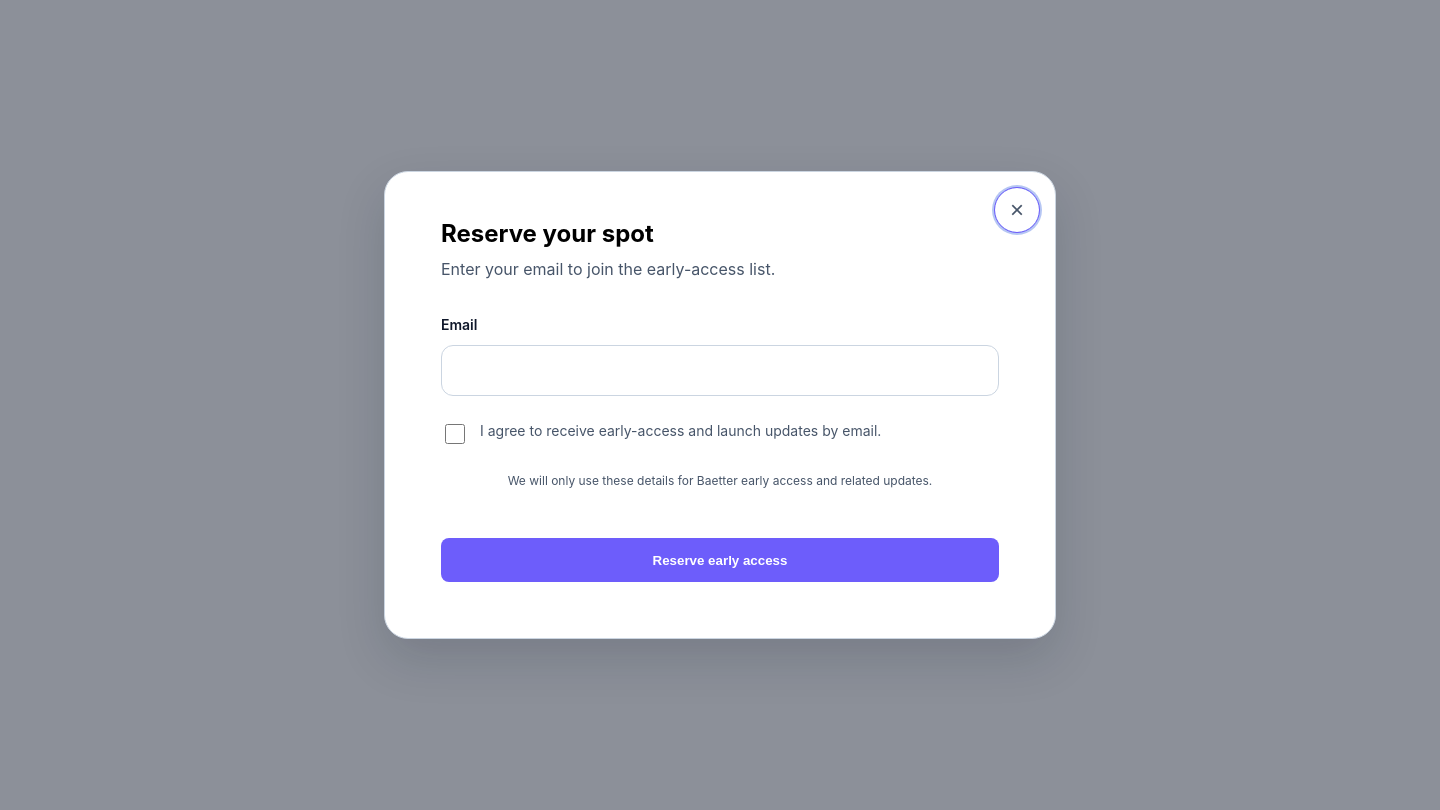
Test: EarlyAccessModal › maps rate_limited rejection and preserves values
In the field labelled "Email": (720, 370) [441,344,999,396], type "learner@example.com"
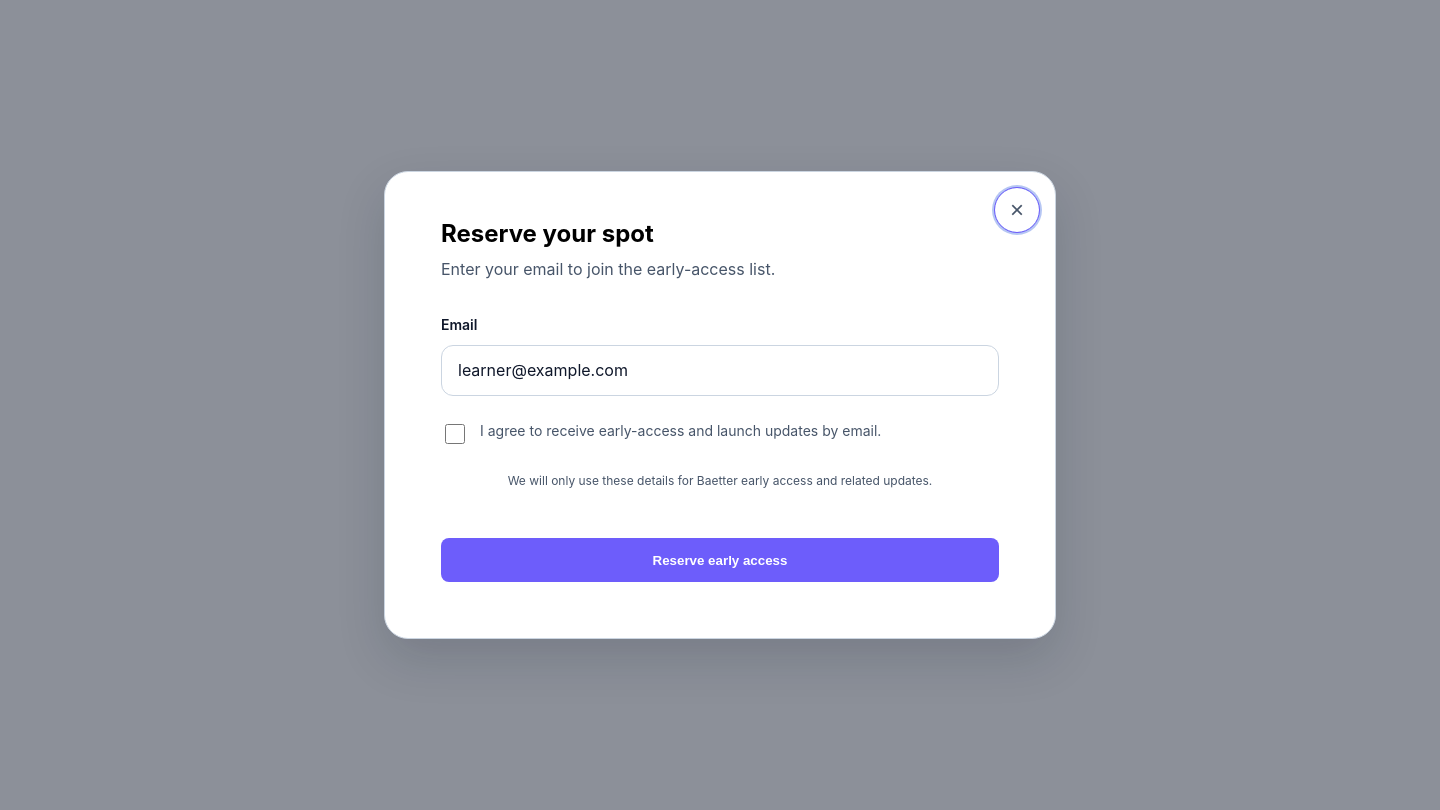
Click the checkbox labelled "I agree to receive early-access and launch updates by email.": (455, 434) [445,424,465,444]
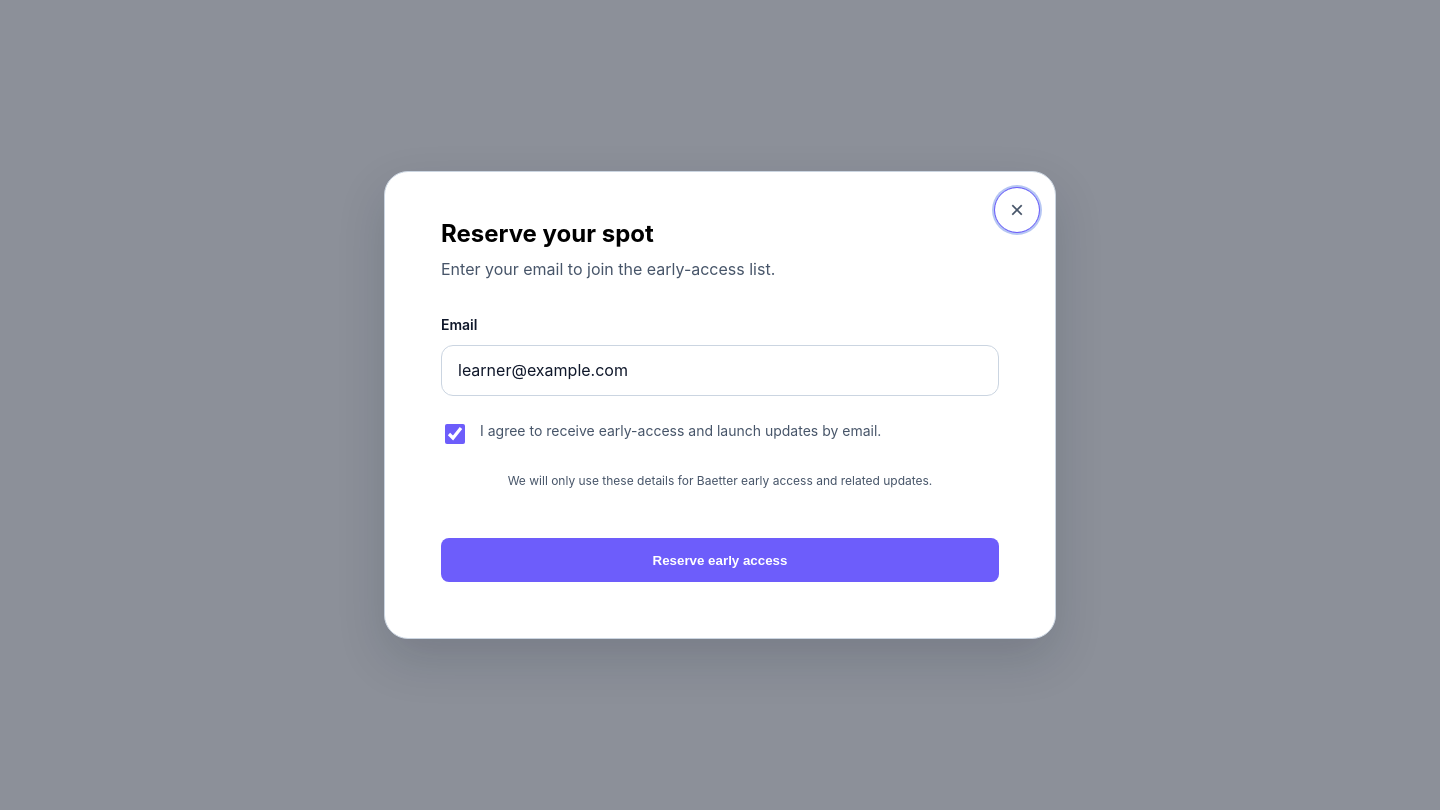
Submit the form with test id "early-access-form", box [441,314,999,582]
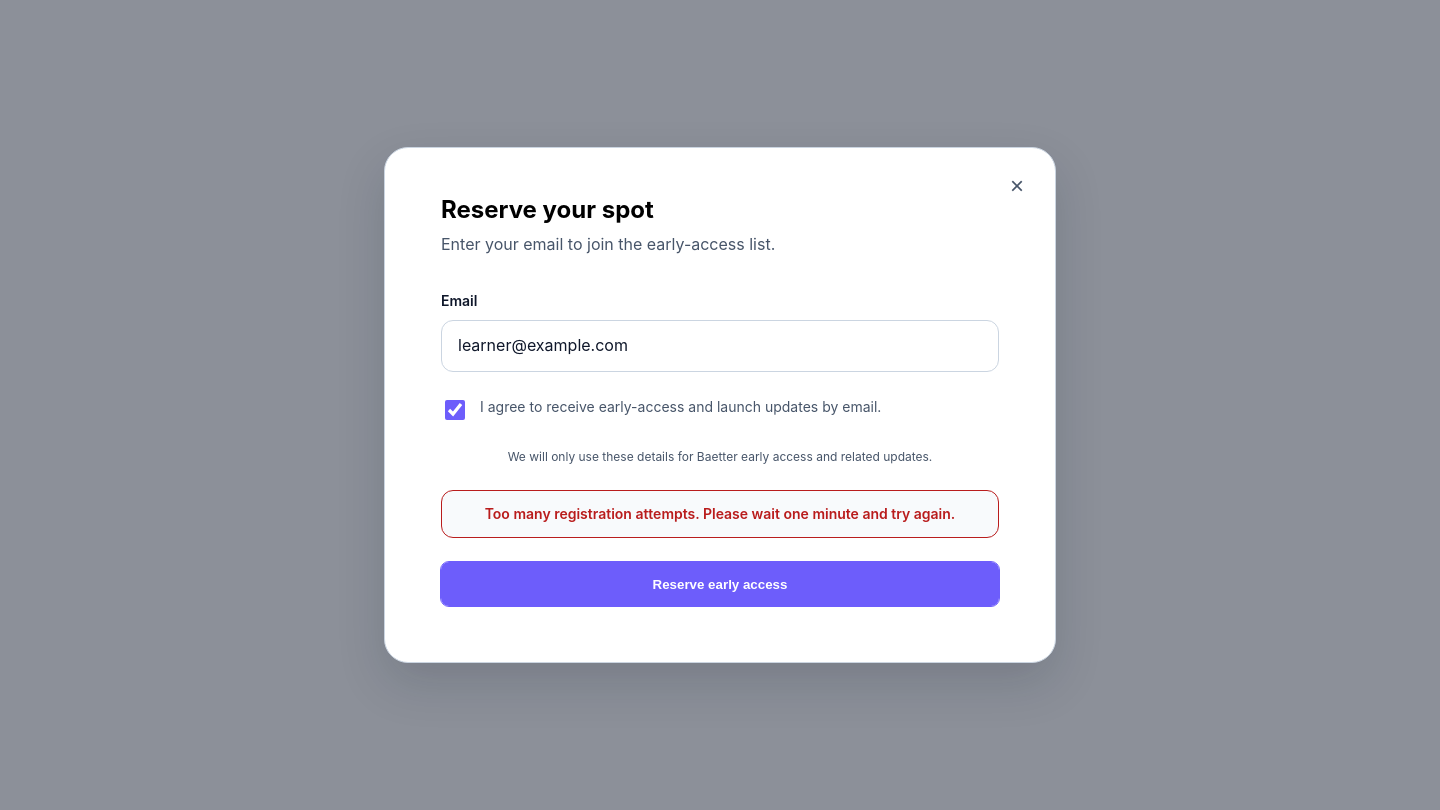
Expected: the button "Reserve early access" is enabled, [441,562,999,606]
Expected: the checkbox labelled "I agree to receive early-access and launch updates by email." is checked, [445,400,465,420]
Expected: the message shows "Too many registration attempts", [485,505,955,522]
